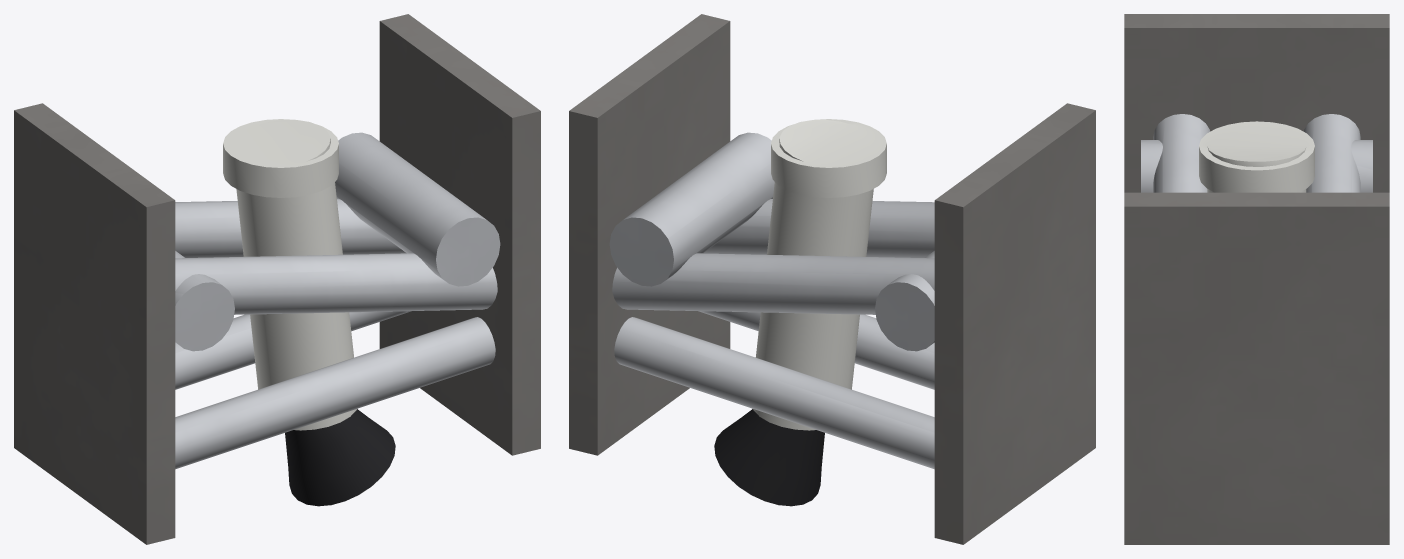
Rendered from stage01_radial_decoupler.glb.
3 views of the same model, side by side, from view 1: azimuth 30°, elevation 25°; view 2: azimuth 150°, elevation 25°; view 3: azimuth 270°, elevation 25° (orthographic).
Parts seen in each view (by area): view 1: inner_plate, strut_arms, outer_plate, sep_motor, sep_nozzle; view 2: inner_plate, strut_arms, outer_plate, sep_motor, sep_nozzle; view 3: outer_plate, inner_plate, strut_arms, sep_motor.
Part boxes in pixels (<box>): inner_plate: <box>14,103,175,544</box>; strut_arms: <box>175,132,500,469</box>; outer_plate: <box>379,14,540,455</box>; sep_motor: <box>223,119,356,430</box>; sep_nozzle: <box>285,409,395,506</box>; inner_plate: <box>934,103,1095,544</box>; strut_arms: <box>609,132,934,469</box>; outer_plate: <box>569,14,730,455</box>; sep_motor: <box>753,119,886,430</box>; sep_nozzle: <box>714,409,824,506</box>; outer_plate: <box>1124,192,1389,544</box>; inner_plate: <box>1124,14,1389,192</box>; strut_arms: <box>1141,114,1372,192</box>; sep_motor: <box>1199,121,1314,192</box>.
Size of the model in its own units: 0.55 by 0.5259 by 0.32.
4 materials, 2 textured.
